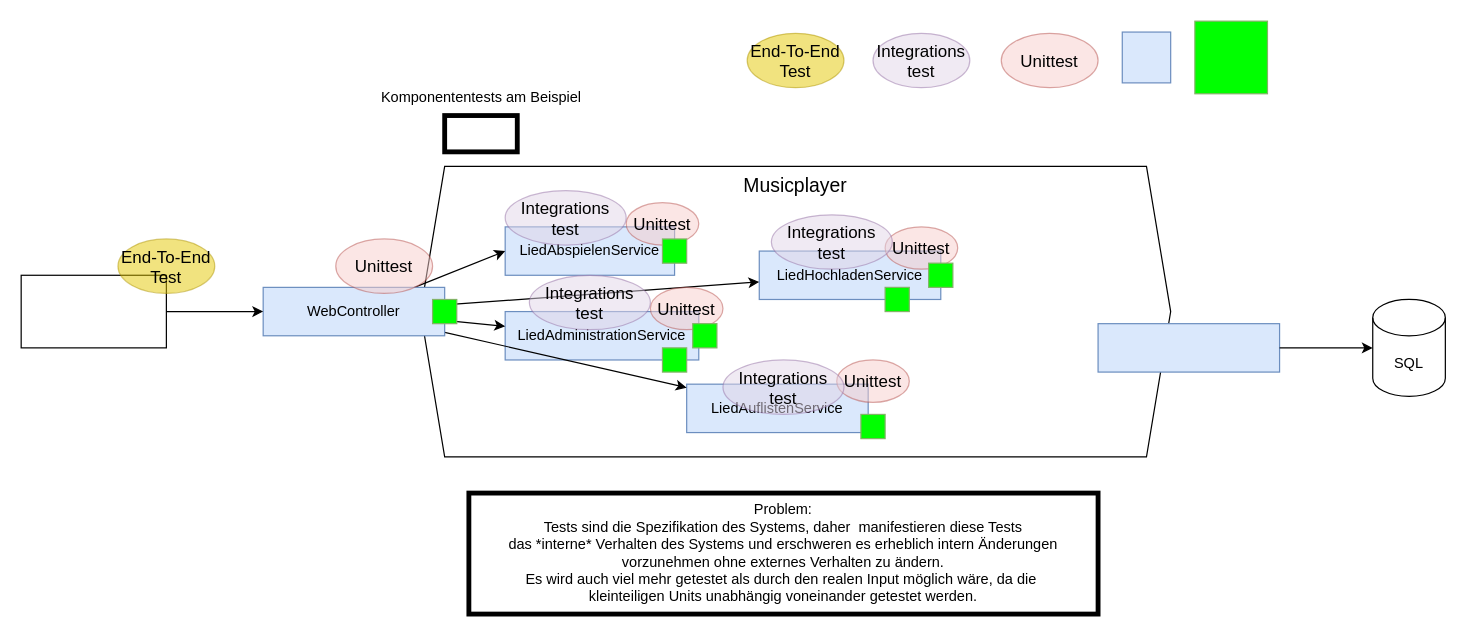
Image size: 1467x638. Some labels were removed from this diagram. The shapes that lost their labels are listed below. From the top down, each one's centre as x and y in pixels, then its label:
At pixel 1146 57: "Unit".
At pixel 1230 57: "Test Double (Mock)".
At pixel 480 133: "Vorher".
At pixel 93 311: "Browser/ Selenium".
At pixel 1188 347: "LiedRepository".
